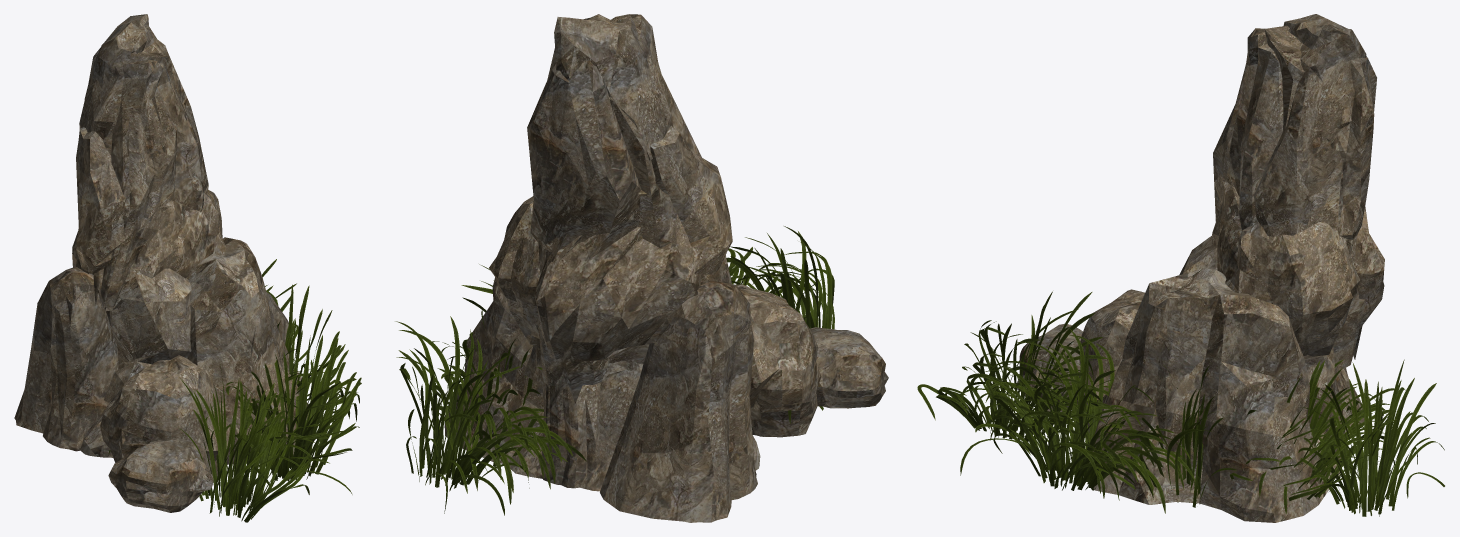
File: 5S_16Rock3.FBX
3 renders of one model, left to right at view 1: azimuth 30°, elevation 25°; view 2: azimuth 150°, elevation 25°; view 3: azimuth 270°, elevation 25°, orthographic. The views are drawn at different scales.
Visible parts, largest first — view 1: 5S_14rock7_11; view 2: 5S_14rock7_11; view 3: 5S_14rock7_11.
Boxes of the visible parts, bbox=[...] form: 5S_14rock7_11: bbox=[14, 14, 361, 522]; 5S_14rock7_11: bbox=[395, 14, 888, 522]; 5S_14rock7_11: bbox=[917, 14, 1444, 522].
Bounding box in the file's own units: 1.63 × 2.06 × 2.27.
Materials: 2 (2 with a texture image).
